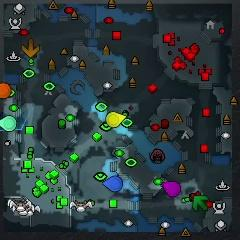p1: (102, 176, 123, 191)
p2: (0, 115, 17, 132)
p3: (161, 181, 181, 197)
p4: (106, 112, 126, 127)
p5: (0, 82, 12, 99)
x4: (193, 195, 208, 211)
x5: (22, 39, 40, 57)
